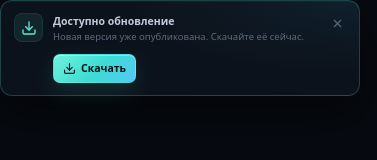
Test: UpdateBanner › показывает ошибку запуска скачивания
This screenshot has width=377, height=160.
Click the button "Скачать" at coordinates (94, 68), box left=53, top=54, right=136, bottom=83
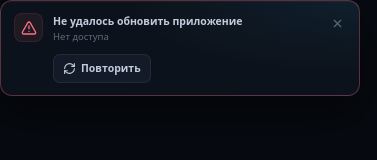
Expected: the text "Нет доступа" is shown, left=53, top=30, right=109, bottom=43
